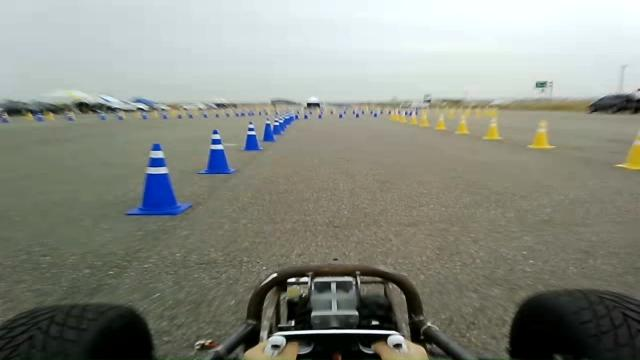blue cone: (124, 142, 192, 216), (197, 129, 235, 174), (240, 120, 262, 150), (261, 119, 275, 142)
yellow cone: (614, 131, 640, 170), (527, 119, 556, 149), (482, 116, 502, 140), (455, 114, 469, 134), (434, 113, 447, 130), (420, 109, 430, 127), (409, 110, 417, 125), (390, 108, 398, 120), (399, 111, 407, 123)
